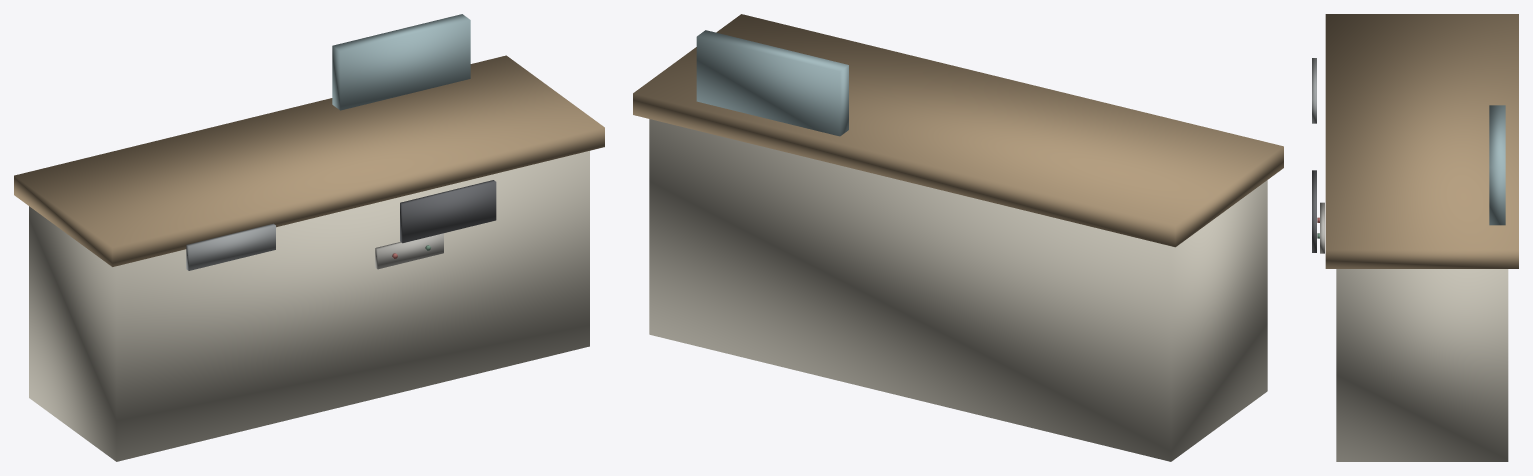
Rendered from pharmacy_pickup_counter__weathered.glb.
3 renders of one model, left to right at view 1: azimuth 30°, elevation 25°; view 2: azimuth 150°, elevation 25°; view 3: azimuth 270°, elevation 25°, orthographic. The views are drawn at different scales.
Parts seen in each view (by area): view 1: world; view 2: world; view 3: world.
Boxes of the visible parts, <box> form: world: <box>14,14,604,461</box>; world: <box>633,14,1283,461</box>; world: <box>1312,14,1518,461</box>.
Size of the model in its own units: 2.08 by 1.13 by 0.7709.
